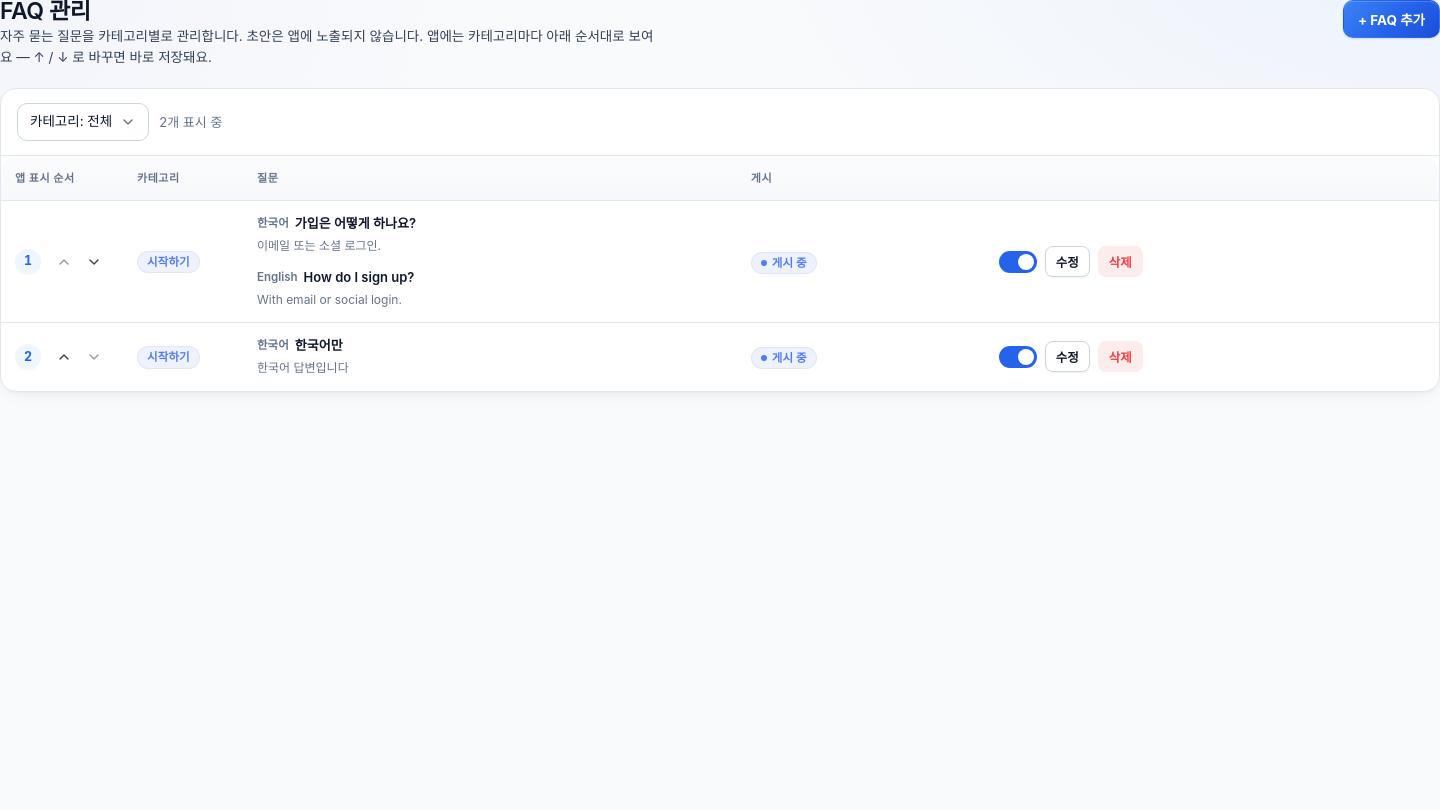
authoring both languages › loads both languages into the form when editing
The image size is (1440, 810).
Expected: the text "가입은 어떻게 하나요?" is shown, [295,215,416,231]
Click the button "수정" in the row of "이메일 또는 소셜 로그인." at {"x": 1067, "y": 262}, box [1045,246,1090,277]
(page scrolled)
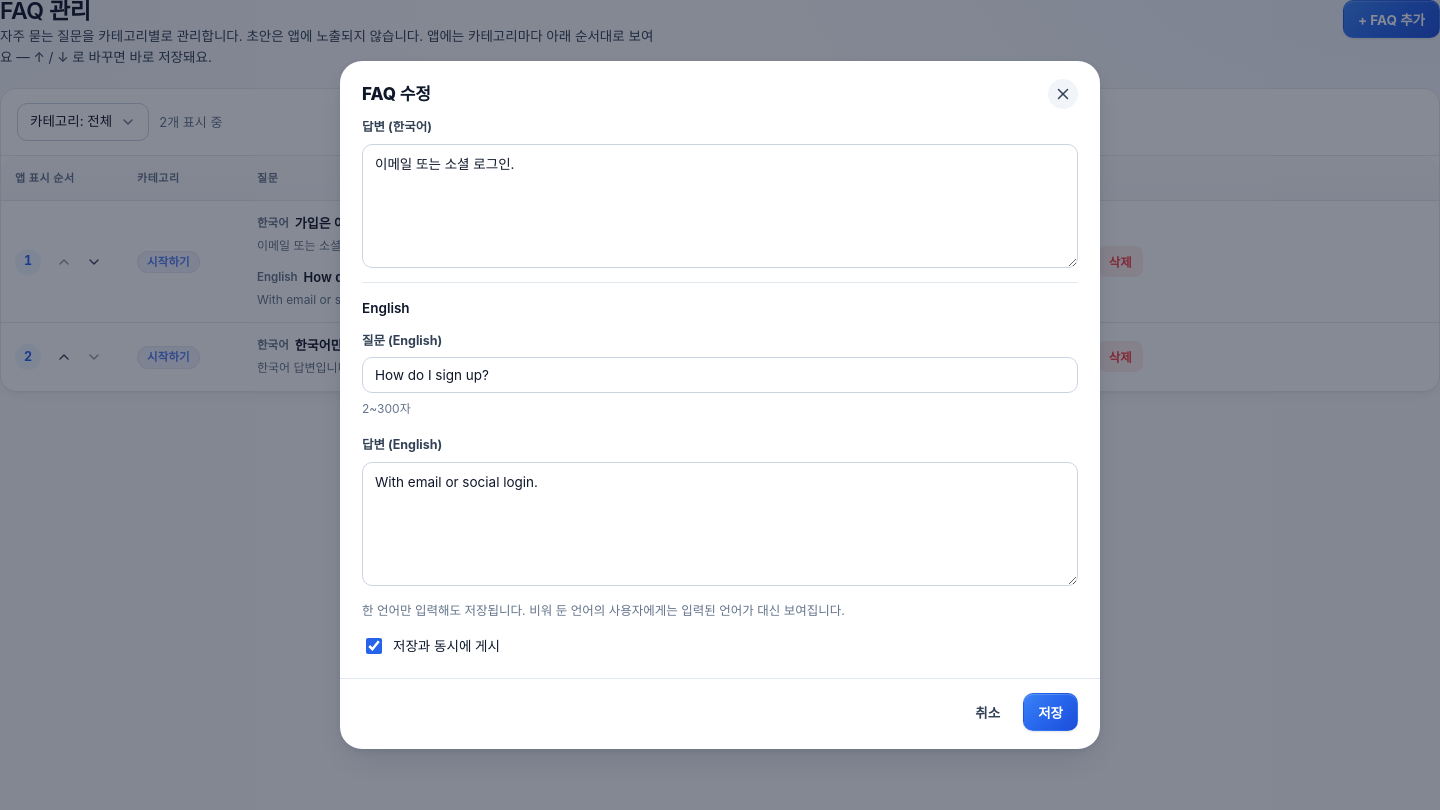
Expected: the field labelled "질문 (English) 2~300자" holds "How do I sign up?", [362,357,1078,393]
Expected: the text box labelled "답변 (English)" holds "With email or social login.", [362,462,1078,586]
